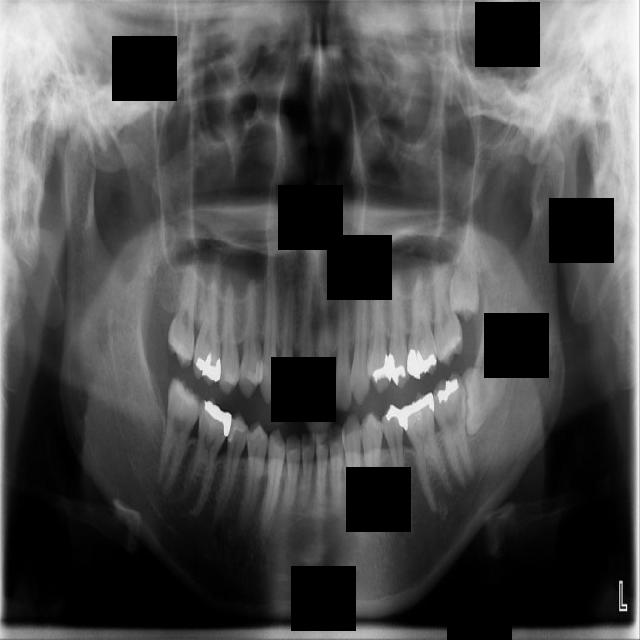52: (391, 387, 444, 435), (189, 396, 240, 444), (425, 370, 472, 422), (191, 337, 224, 388), (404, 335, 440, 381), (220, 412, 256, 453), (377, 401, 409, 443), (364, 351, 392, 394), (387, 347, 411, 391), (275, 366, 298, 409)
73: (620, 616, 627, 624)
BioHorizons Implant: (430, 249, 464, 367)
BioLife Implant: (446, 215, 480, 324)
Biomet 3i Implant: (456, 357, 508, 440)
Blue Sky Bio Implant: (429, 371, 475, 490)
Caries: (167, 248, 200, 371)
Implant: (155, 375, 205, 497)
